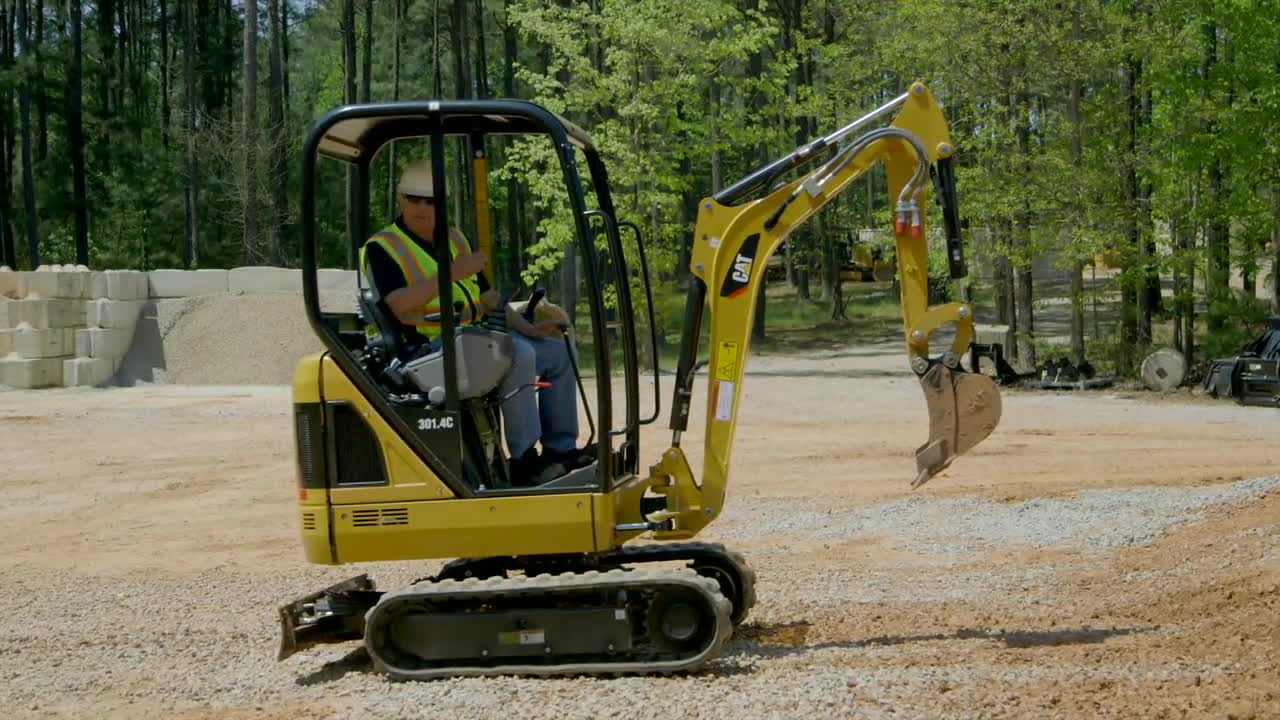attachment-bucket: (908, 353, 1003, 492)
cabin: (293, 99, 667, 568)
forearm: (885, 84, 976, 349)
upperarm: (672, 129, 911, 537)
wheelbase: (343, 541, 758, 692)
